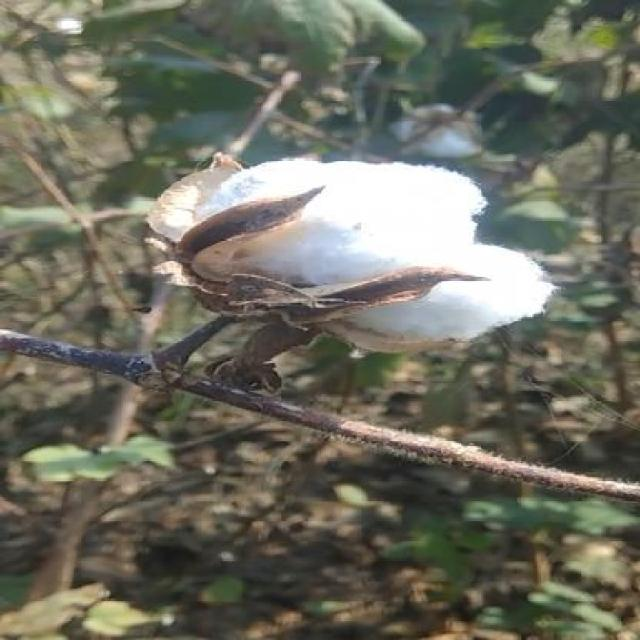cotton_ready: (152, 105, 540, 393)
